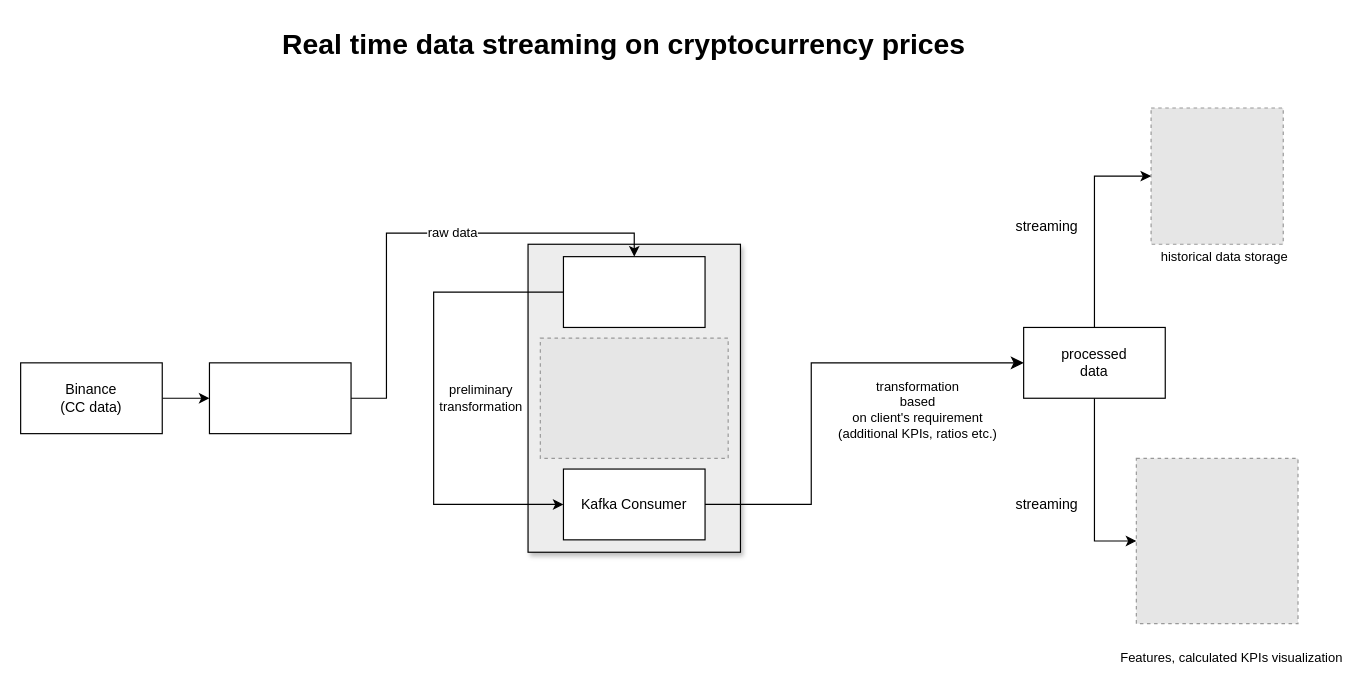
The diagram is 1363 pixels wide and 686 high, and some of its shapes have lost their labels. Grey dashed boxes stand in for pictures. Each missing label, with the centre of its shape:
CCXT package: the point at 279,398
Kafka Producer: the point at 633,291
